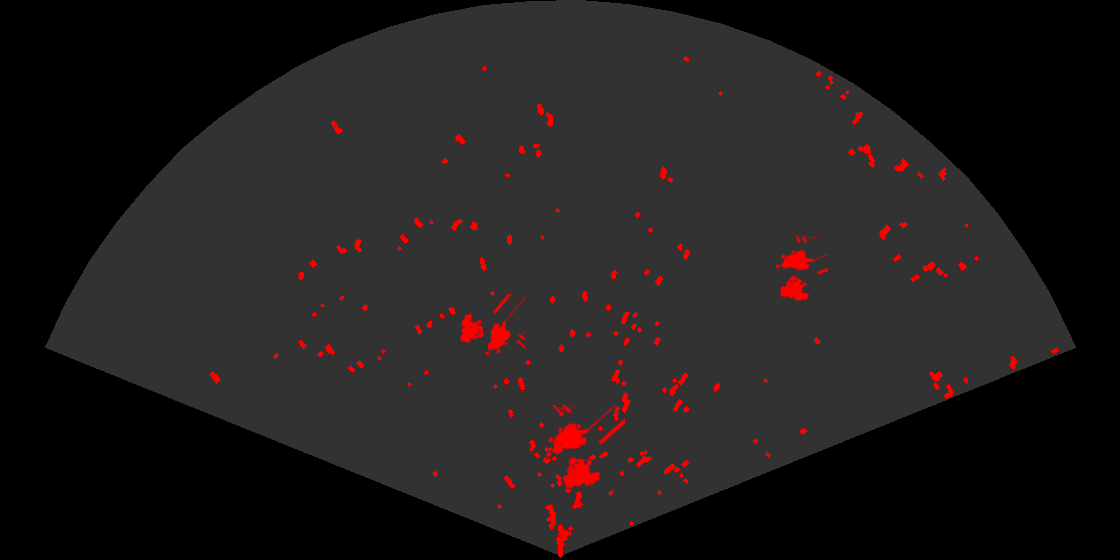cage: (544, 405, 625, 490), (458, 294, 525, 357), (774, 236, 828, 303)
